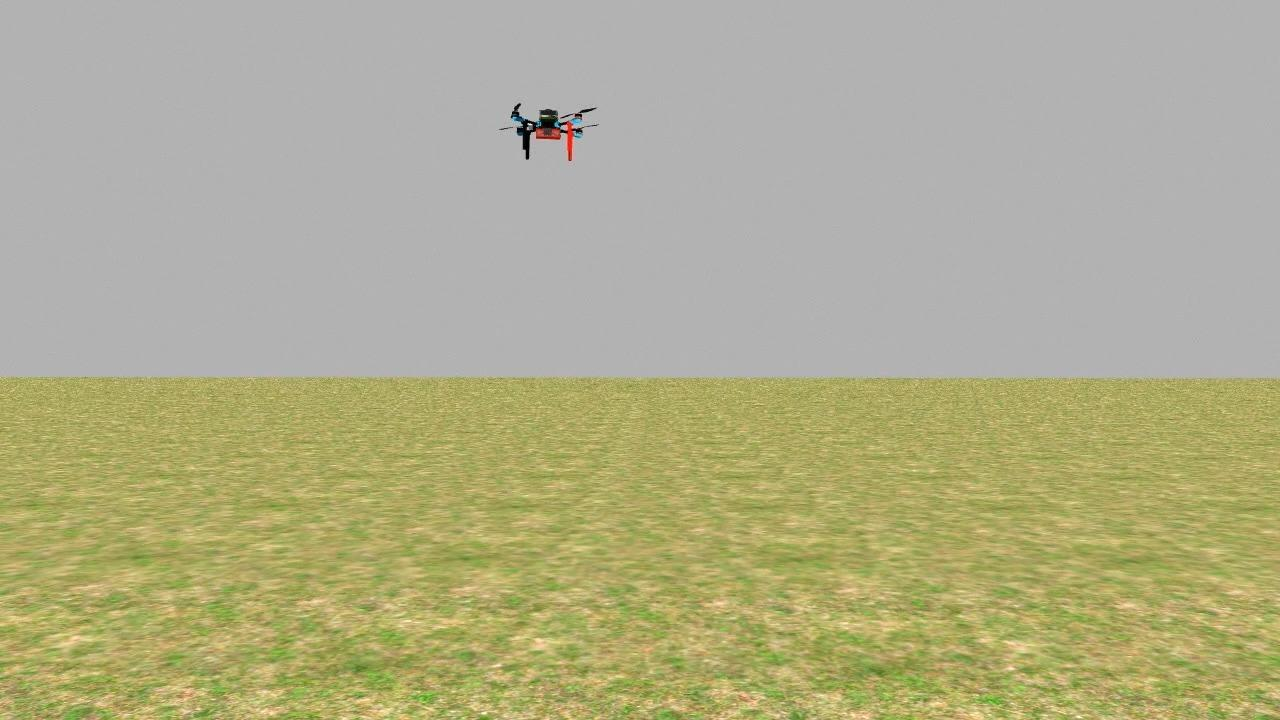UAV: (466, 88, 604, 173)
